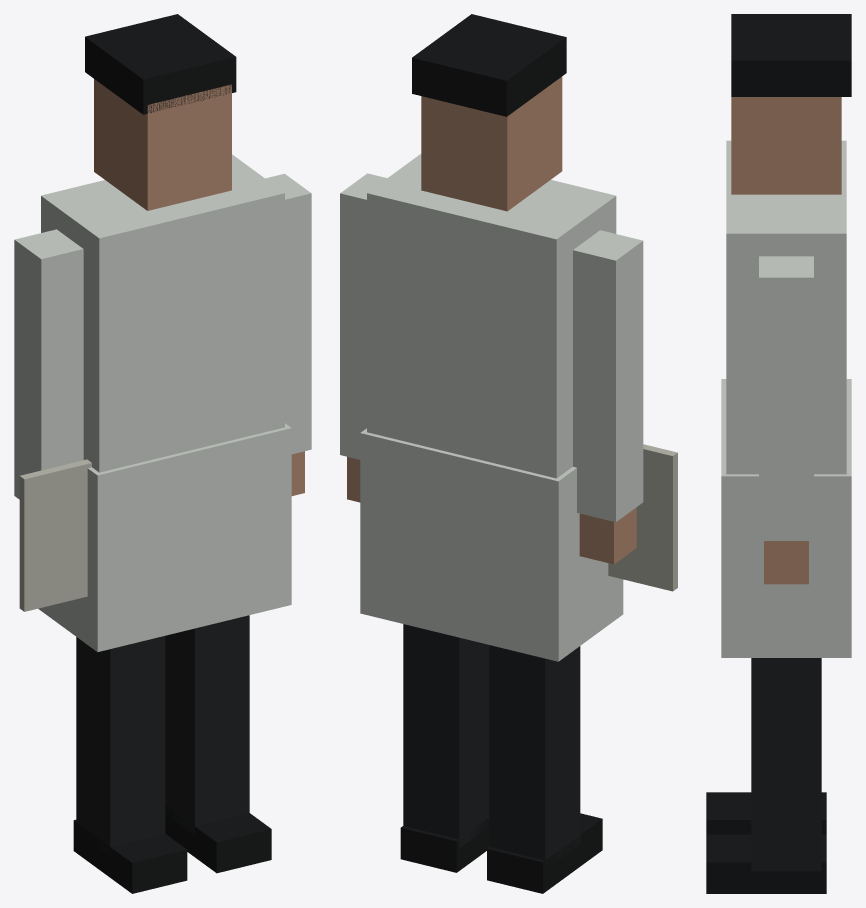
The model's file is researcher.glb.
3 renders of one model, left to right at view 1: azimuth 30°, elevation 25°; view 2: azimuth 150°, elevation 25°; view 3: azimuth 270°, elevation 25°, orthographic. The views are drawn at different scales.
Visible parts, largest first — view 1: torso, body, head, leg_r, leg_l, arm_r, clipboard, arm_l; view 2: torso, body, head, leg_r, arm_r, leg_l, arm_l, clipboard; view 3: torso, head, leg_l, body, arm_l, leg_r.
Boxes of the visible parts, <box> form: torso: <box>41,154,284,472</box>; body: <box>38,423,291,652</box>; head: <box>85,14,236,210</box>; leg_r: <box>73,636,187,893</box>; leg_l: <box>165,615,271,873</box>; arm_r: <box>14,229,83,499</box>; clipboard: <box>19,459,91,611</box>; arm_l: <box>265,173,311,495</box>; torso: <box>367,154,616,478</box>; body: <box>360,428,623,661</box>; head: <box>412,14,566,211</box>; leg_r: <box>487,645,602,893</box>; arm_r: <box>573,230,643,564</box>; leg_l: <box>400,624,489,872</box>; arm_l: <box>340,173,386,502</box>; clipboard: <box>608,444,677,591</box>; torso: <box>726,140,846,474</box>; head: <box>731,14,851,194</box>; leg_l: <box>706,658,826,893</box>; body: <box>721,379,851,657</box>; arm_l: <box>759,256,813,584</box>; leg_r: <box>706,792,826,834</box>.
Size of the model in its own units: 0.7 by 1.81 by 0.29.
